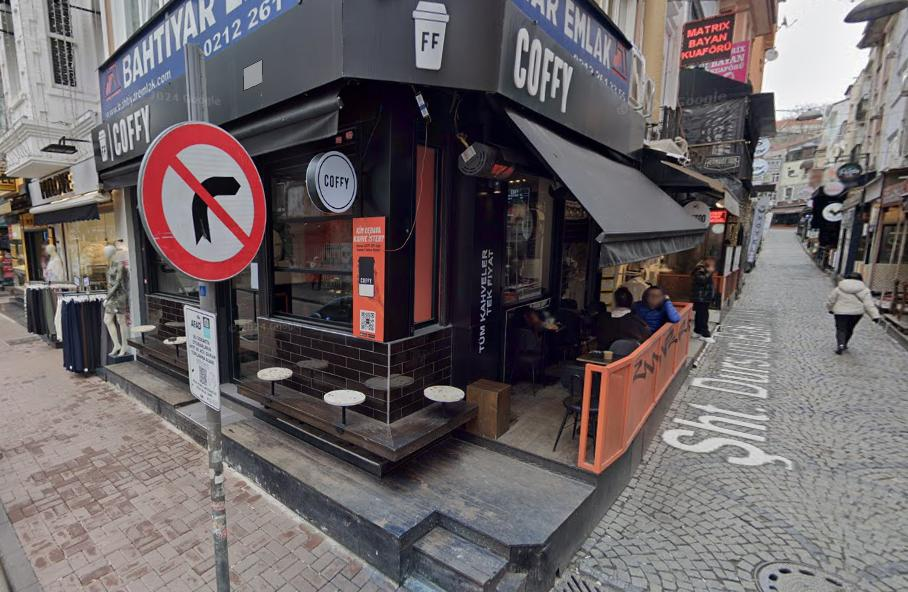rightturnsareforbidden: (142, 117, 267, 263)
